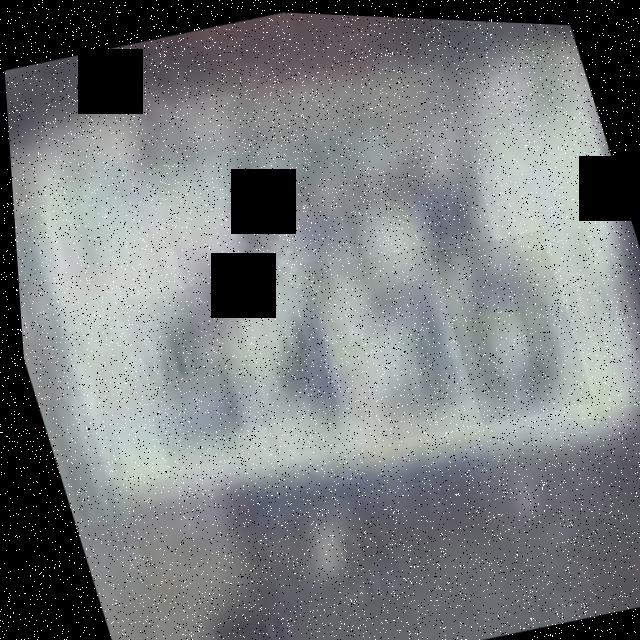0: (425, 221, 590, 424)
3: (308, 232, 498, 448)
4: (214, 251, 377, 458)
6: (110, 273, 274, 473)
J: (122, 138, 272, 298)
